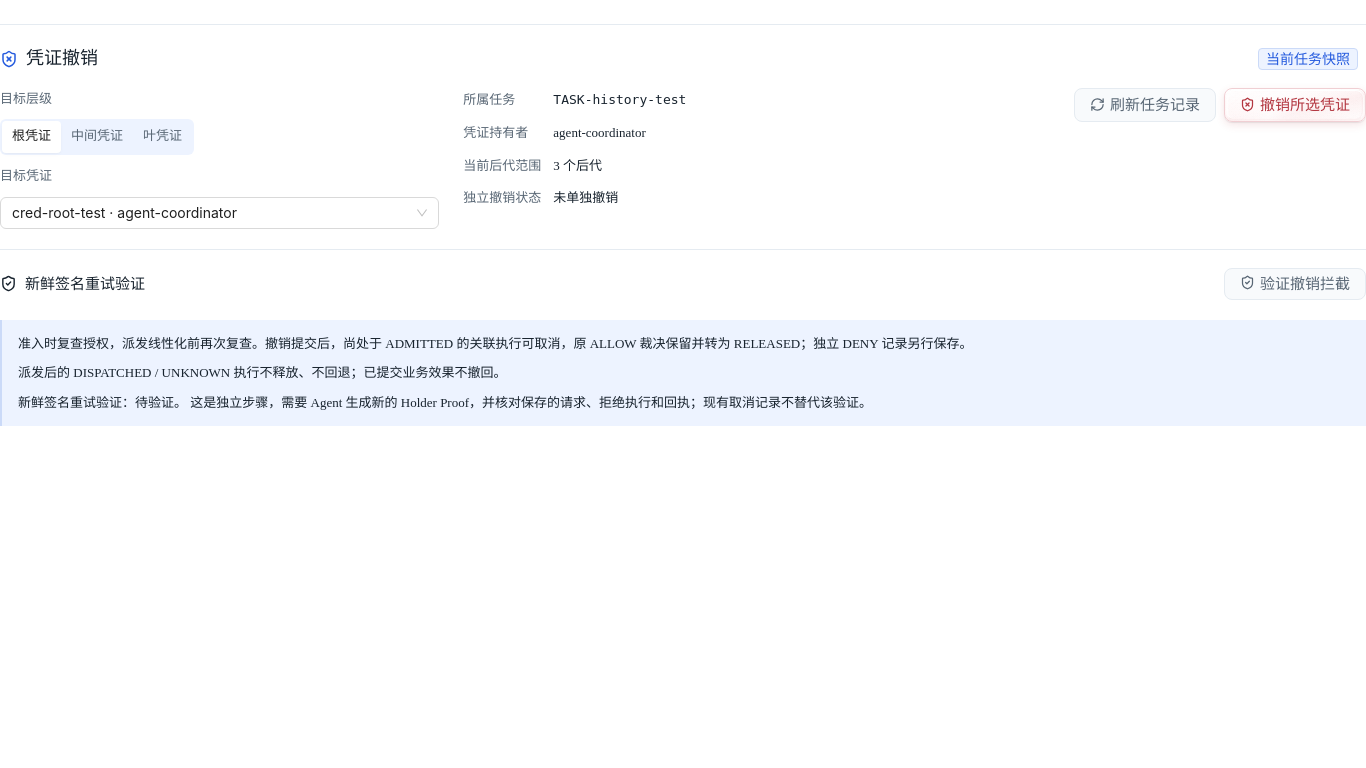
Test: CredentialRevocationPanel › allows revocation without typing a reason and retains a truthful automatic audit reason
Check: the field labelled "撤销原因" is not shown
Click the button "撤销所选凭证" at (1295, 105), box [1224, 88, 1365, 122]
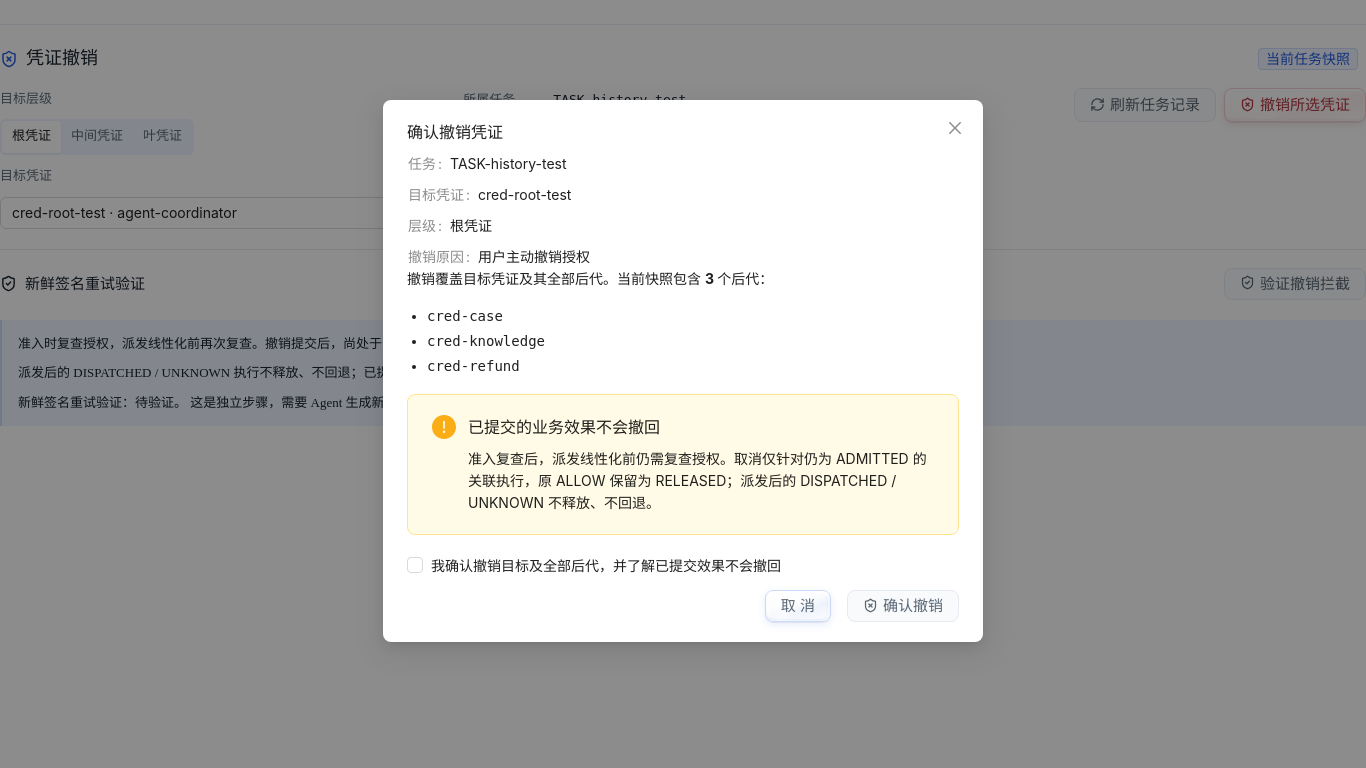
Click the checkbox at (598, 565), box [407, 553, 789, 578]
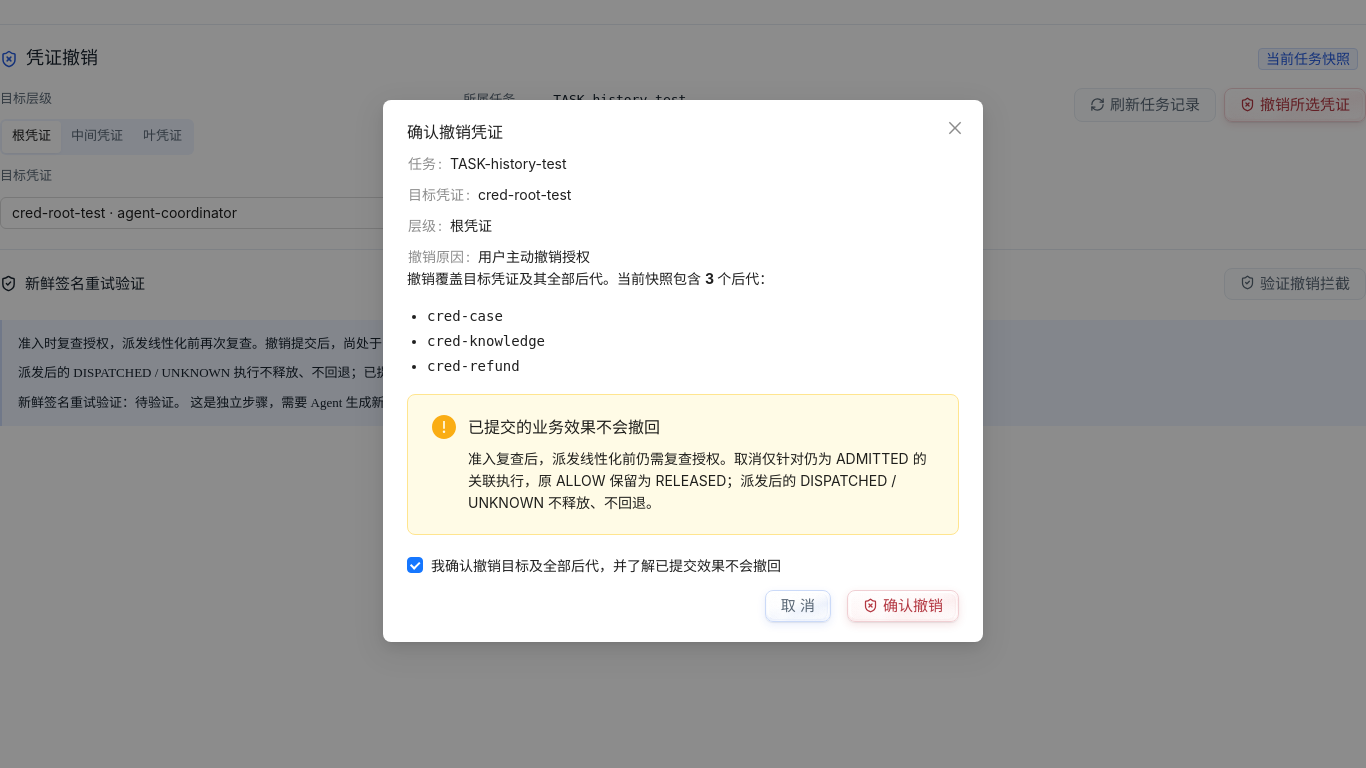
Click the button "确认撤销" at (903, 606), box [847, 590, 959, 622]
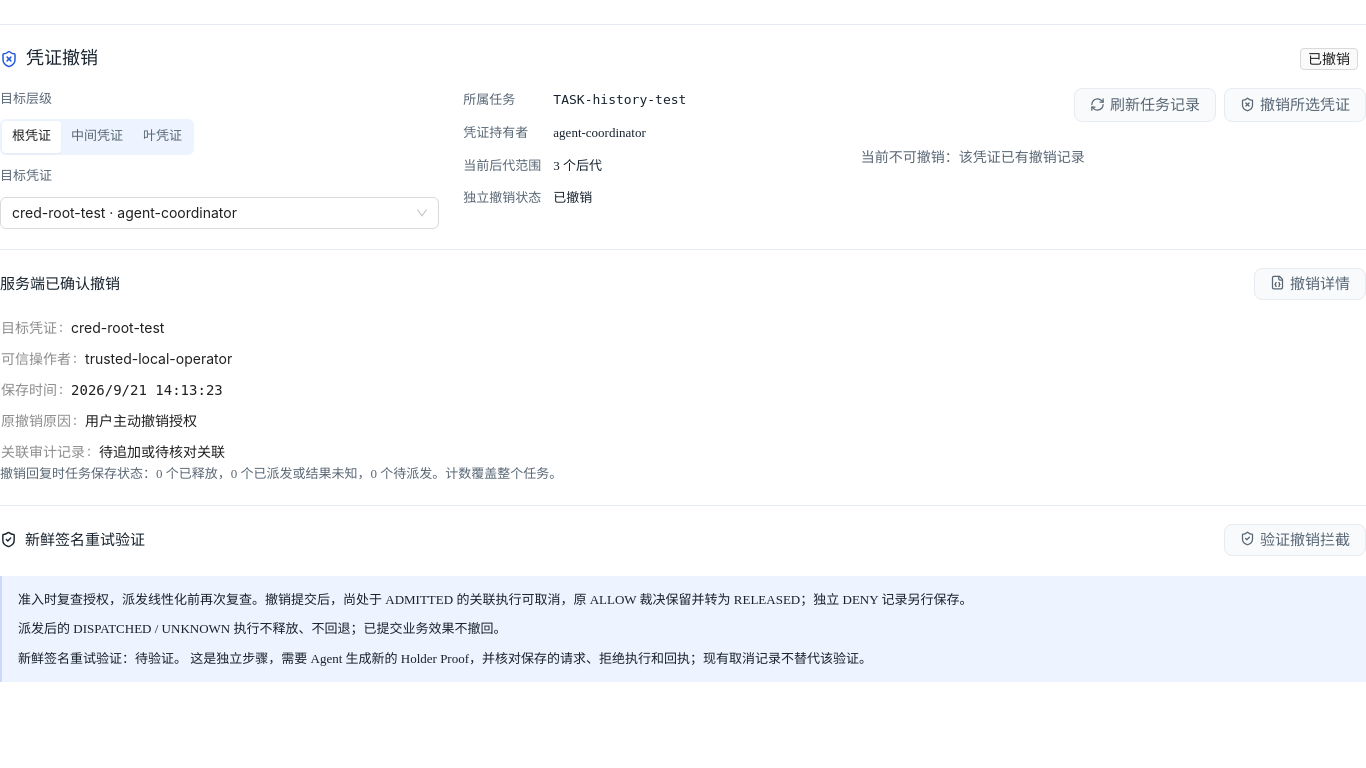
Check: the text "用户主动撤销授权" is shown, box [85, 412, 197, 429]
Check: the heading "服务端已确认撤销" is shown, box [0, 273, 120, 295]
